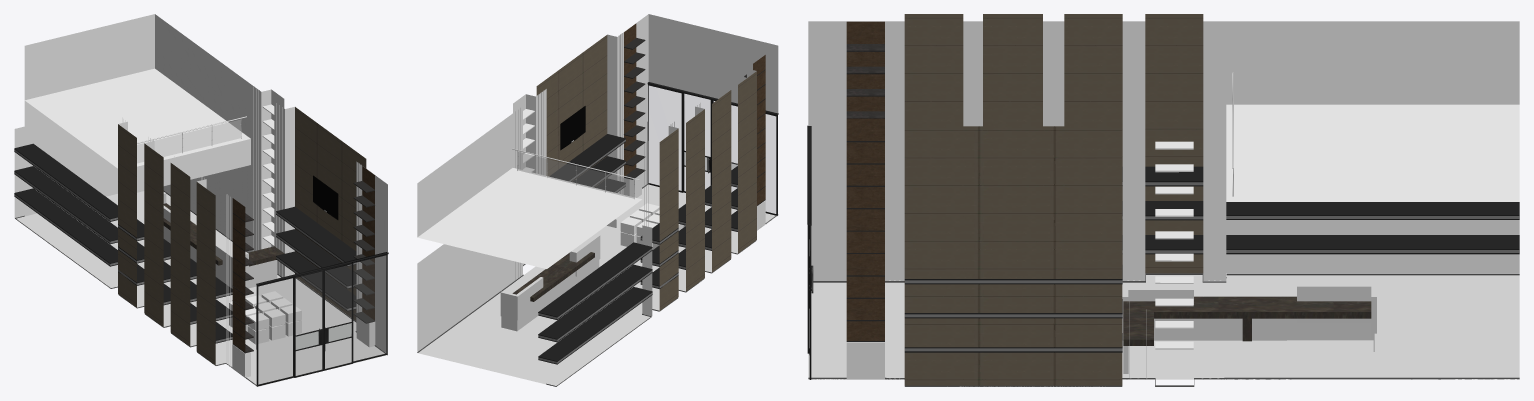
3 renders of one model, left to right at view 1: azimuth 30°, elevation 25°; view 2: azimuth 150°, elevation 25°; view 3: azimuth 270°, elevation 25°, orthographic. The views are drawn at different scales.
Visible parts, largest first — view 1: Plane.024, Plane014.001, Line211.002, Plane001.001, Plane011.002, Plane016.001, Plane009.001, Cube002.001, Plane008.001, Plane006.001, Plane021.001, Plane004.001 (+14 smaller); view 2: Plane.024, Plane014.001, Plane011.002, Plane016.001, Line211.002, Plane009.001, Plane021.001, Cube012.001, Plane008.001, Plane004.001, Plane006.001, Plane003.001 (+10 smaller); view 3: Plane.024, Plane014.001, Plane011.002, Plane016.001, Plane003.001, Cube.020, Cube012.002, Plane010.001, Cube012.001, Plane012.001, Plane006.001, Plane009.001 (+8 smaller).
Boxes of the visible parts, <box> form: Plane.024: <box>14,14,387,366</box>; Plane014.001: <box>118,107,366,364</box>; Line211.002: <box>256,252,388,386</box>; Plane001.001: <box>24,14,154,216</box>; Plane011.002: <box>16,191,386,386</box>; Plane016.001: <box>14,143,117,266</box>; Plane009.001: <box>276,206,356,311</box>; Cube002.001: <box>229,291,301,344</box>; Plane008.001: <box>118,219,232,343</box>; Plane006.001: <box>232,198,245,352</box>; Plane021.001: <box>137,119,240,163</box>; Plane004.001: <box>353,181,374,323</box>; Plane.024: <box>417,14,778,351</box>; Plane014.001: <box>536,35,756,310</box>; Plane011.002: <box>418,184,776,385</box>; Plane016.001: <box>538,242,652,364</box>; Line211.002: <box>647,82,778,215</box>; Plane009.001: <box>549,134,625,192</box>; Plane021.001: <box>518,152,634,198</box>; Cube012.001: <box>500,234,600,320</box>; Plane008.001: <box>640,166,737,289</box>; Plane004.001: <box>624,38,645,179</box>; Plane006.001: <box>753,55,765,205</box>; Plane003.001: <box>624,23,636,175</box>; Plane.024: <box>808,21,1519,378</box>; Plane014.001: <box>904,14,1203,385</box>; Plane011.002: <box>808,275,1519,386</box>; Plane016.001: <box>1226,202,1519,254</box>; Plane003.001: <box>846,118,884,340</box>; Cube.020: <box>1123,296,1371,345</box>; Cube012.002: <box>1122,318,1374,351</box>; Plane010.001: <box>1155,141,1193,349</box>; Cube012.001: <box>1122,284,1376,333</box>; Plane012.001: <box>808,273,1519,386</box>; Plane006.001: <box>846,21,884,111</box>; Plane009.001: <box>904,265,1122,352</box>.
Bounding box in the file's own units: 4.63 × 5 × 12.38.
Materials: 20 (6 with a texture image).
